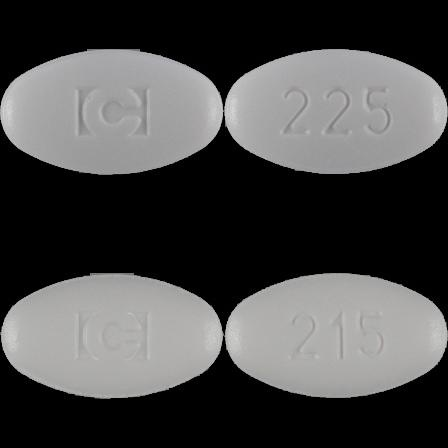35356-588: (0, 0, 224, 224)
